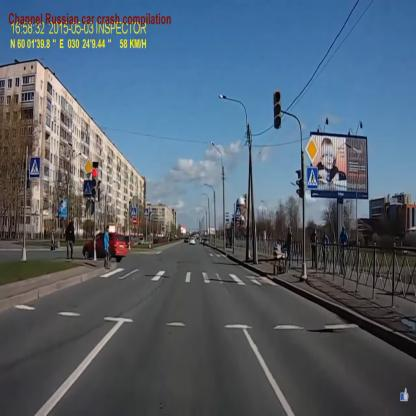crosswalk: (100, 265, 278, 288)
